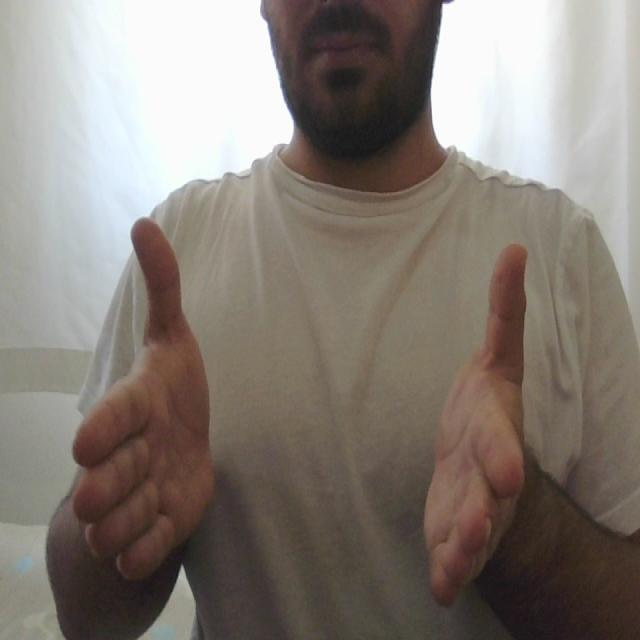Nasil: (64, 212, 537, 610)
